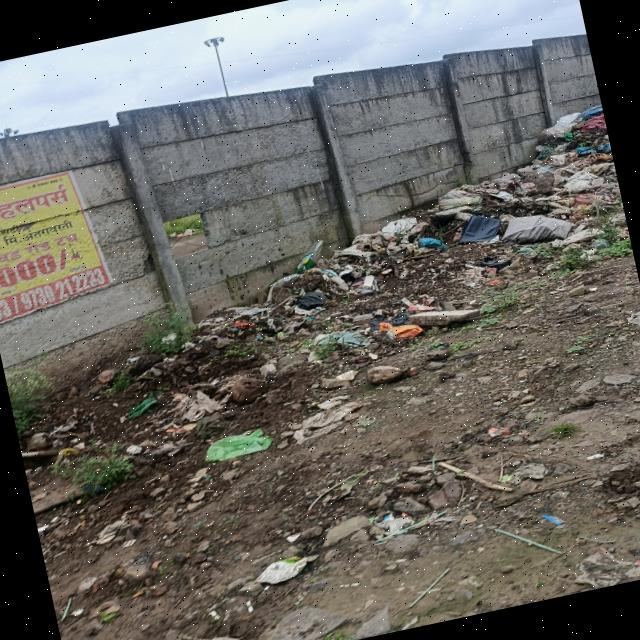garbage: (13, 193, 475, 577), (446, 110, 632, 280)
